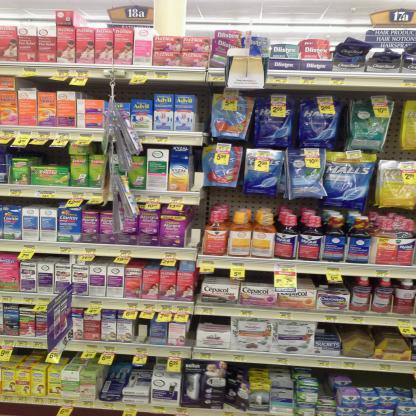Void: (356, 372, 413, 388), (113, 352, 132, 387), (32, 148, 66, 163), (247, 270, 274, 286)
